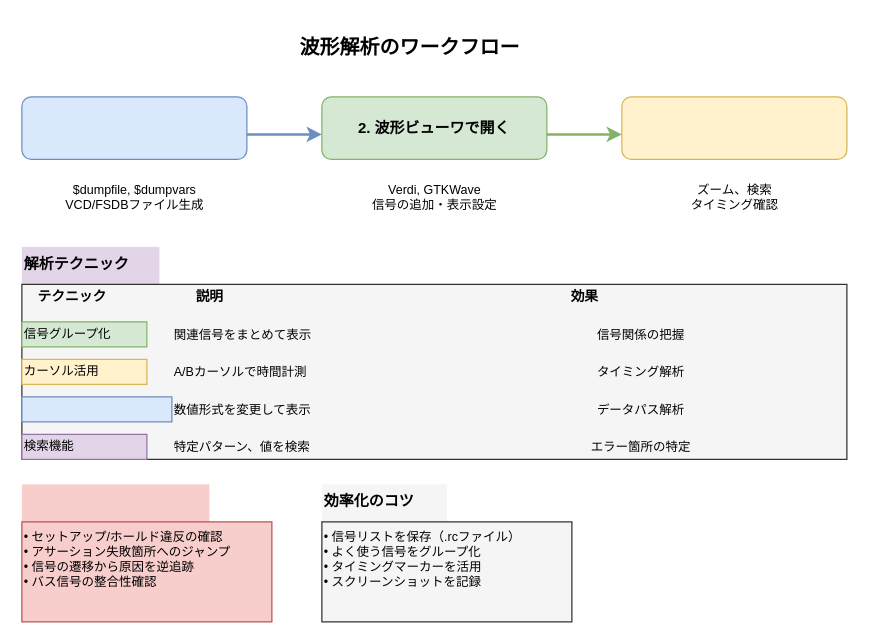
Some shapes in this 869 by 644 pixel diagram are drawn without their labels. The centre of each missing label's shape, as x and y in pixels:
"1. 波形ダンプ生成" goes at [134,127].
"3. 問題箇所を探索" goes at [734,127].
"よくある解析パターン" goes at [115,502].
"バス値の16進数表示" goes at [96,409].
